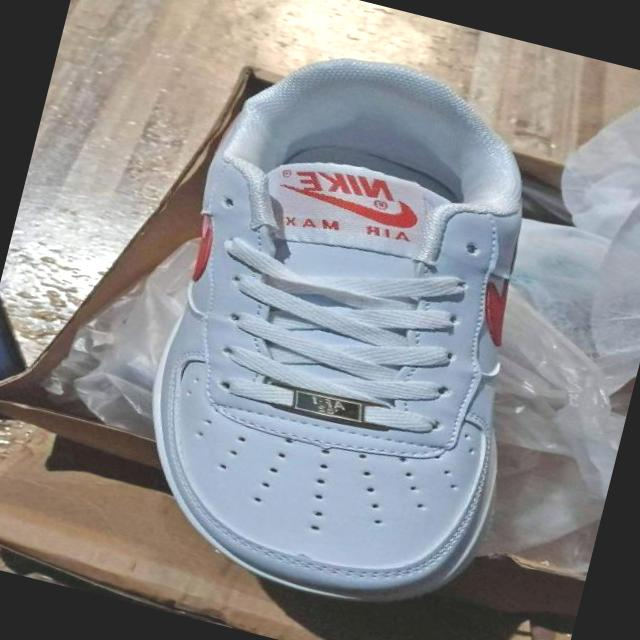nike_fake_airforce: (98, 24, 584, 634)
